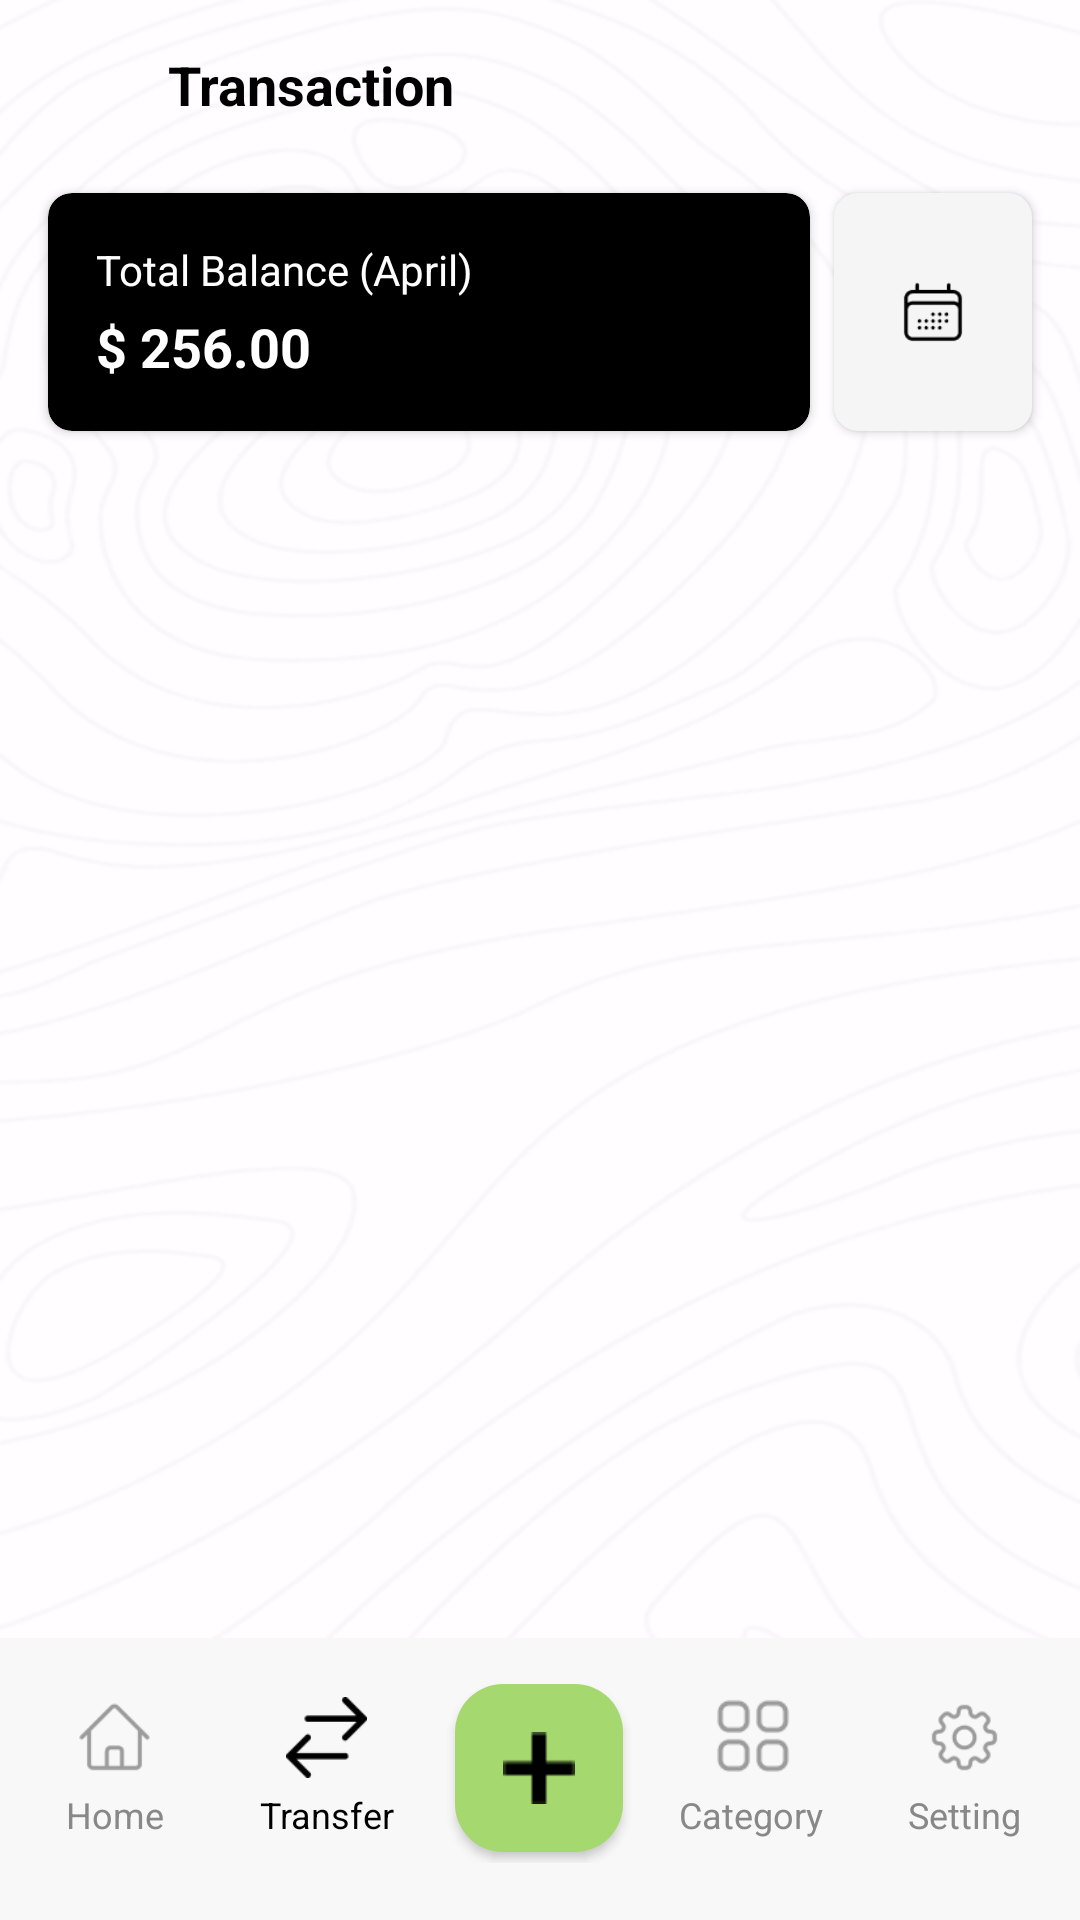

Screen size 1080w x 1920h. Icon name, then its box in pixels as (x1, y1, x2, y2):
calendarinonn: (904, 283, 962, 341)
plusicon: (455, 1684, 623, 1852)
